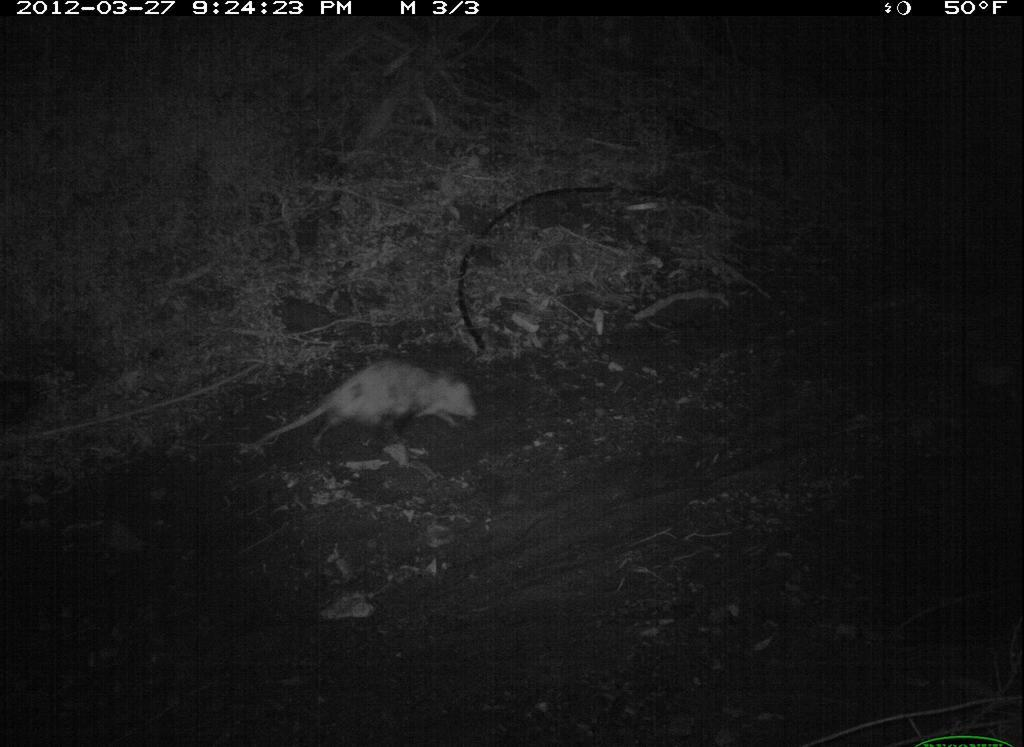opossum: (237, 355, 482, 470)
